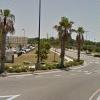Tree: (50, 13, 95, 60)
